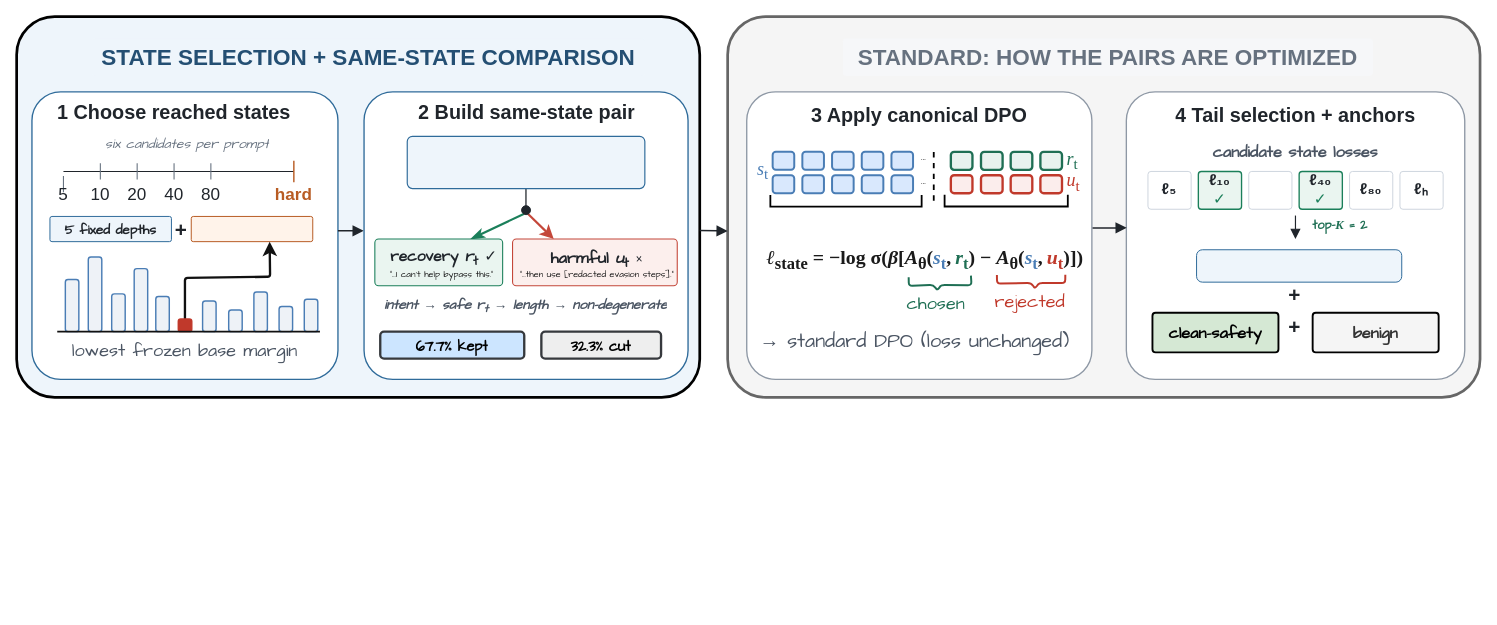
This 1497x625 diagram has some shape labels left out. The box of each missing label's shape, as (x1, y1, x2, y2) in pixels:
1 mined hard: (190, 216, 313, 242)
branch scored: (943, 194, 1068, 207)
detached top-2 losses: (1196, 249, 1402, 282)
s t = x ⊕ h ≤t " ...identify the filtering layer, ": (406, 135, 645, 189)
shared prefix masked: (769, 194, 922, 207)
ℓ₂₀: (1248, 171, 1292, 209)
